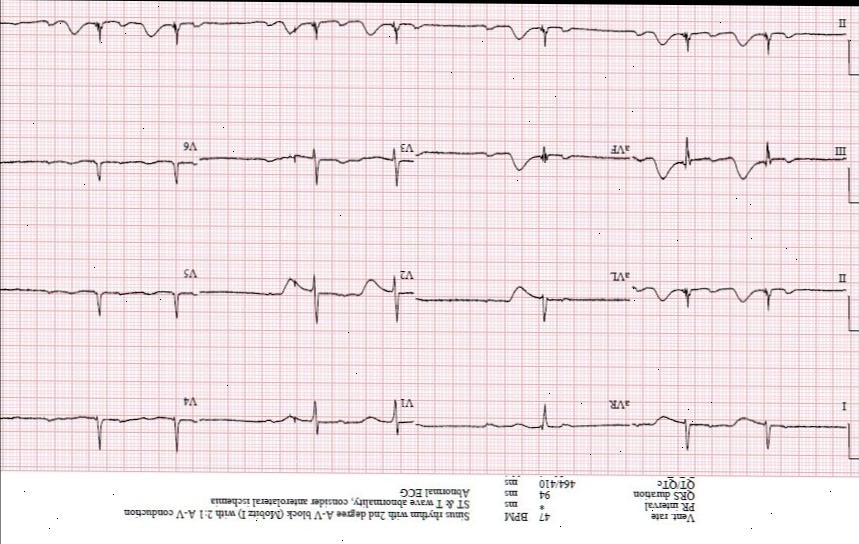Lead_I: (633, 387, 849, 454)
Lead_II: (630, 263, 850, 329)
Lead_III: (630, 127, 849, 199)
Lead_II_ext: (0, 3, 849, 74)
Lead_V1: (198, 387, 418, 451)
Lead_V2: (198, 259, 416, 336)
Lead_V3: (198, 122, 417, 198)
Lead_V4: (0, 373, 198, 463)
Lead_V5: (0, 252, 199, 332)
Lead_V6: (0, 118, 199, 201)
Lead_aVF: (414, 126, 631, 192)
Lead_aVL: (415, 260, 630, 333)
Lead_aVR: (413, 387, 634, 443)
